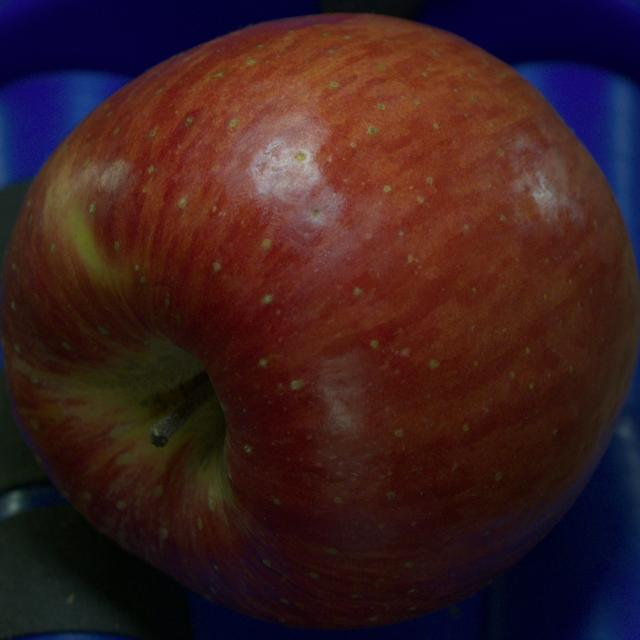apple: (0, 16, 639, 627)
